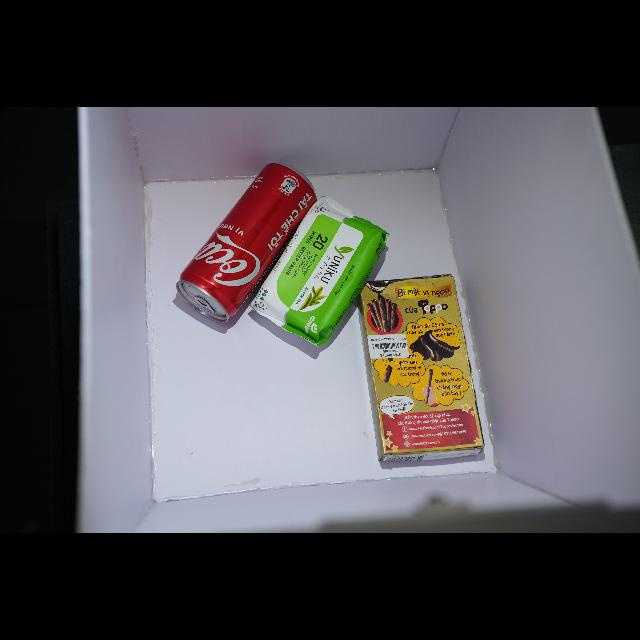banh_toppo_socola: (360, 275, 485, 461)
coca_cola: (176, 163, 316, 322)
khan_giay: (250, 197, 389, 345)
